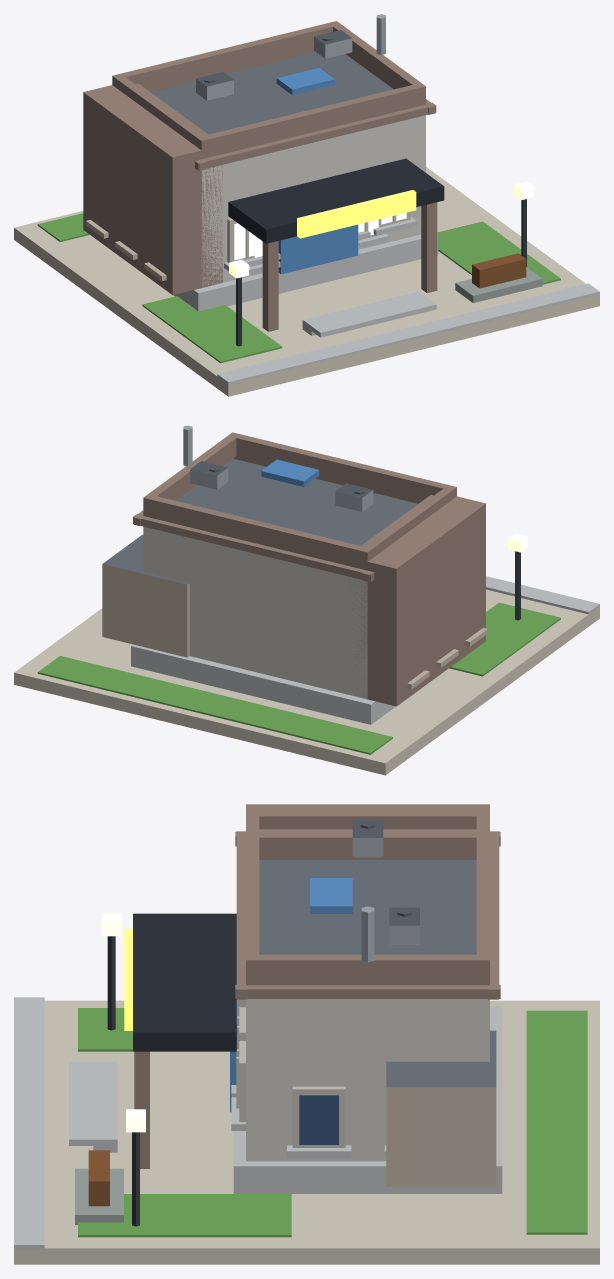
3 renders of one model, top to bottom at view 1: azimuth 30°, elevation 25°; view 2: azimuth 150°, elevation 25°; view 3: azimuth 270°, elevation 25°, orthographic. The views are drawn at different scales.
Visible parts, largest first — view 1: b23_v2; view 2: b23_v2; view 3: b23_v2.
Boxes of the visible parts, <box> form: b23_v2: <box>14,14,599,396</box>; b23_v2: <box>14,425,599,775</box>; b23_v2: <box>14,804,599,1264</box>.
Bounding box in the file's own units: 0.96 × 0.535 × 0.96.
